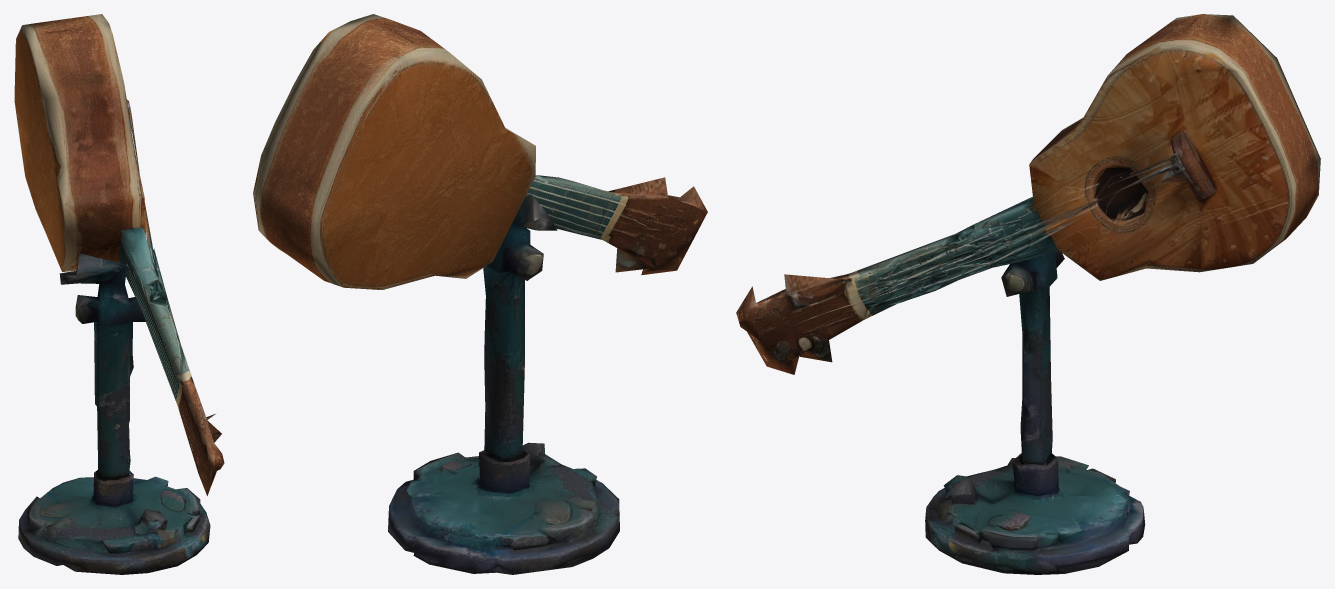
File: weapon_lute_tertiary_1500_raw.glb
3 renders of one model, left to right at view 1: azimuth 30°, elevation 25°; view 2: azimuth 150°, elevation 25°; view 3: azimuth 270°, elevation 25°, orthographic. The views are drawn at different scales.
Visible parts, largest first — view 1: tripo_node_817f9cb3-23e8-42cf-a066-82afeae94b41; view 2: tripo_node_817f9cb3-23e8-42cf-a066-82afeae94b41; view 3: tripo_node_817f9cb3-23e8-42cf-a066-82afeae94b41.
Part boxes in pixels (box(x1,y1,x2,y2)): tripo_node_817f9cb3-23e8-42cf-a066-82afeae94b41: box(14, 14, 224, 574); tripo_node_817f9cb3-23e8-42cf-a066-82afeae94b41: box(253, 14, 707, 574); tripo_node_817f9cb3-23e8-42cf-a066-82afeae94b41: box(736, 14, 1320, 574).
Size of the model in its own units: 0.3952 by 0.9591 by 0.9823.
Materials: 1 (1 with a texture image).
